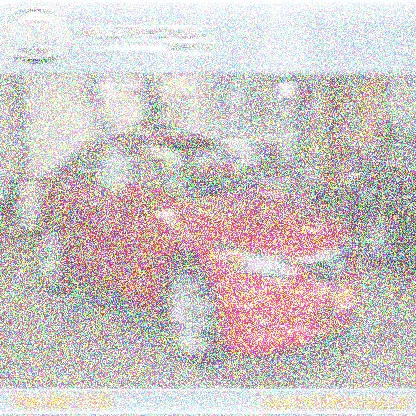Vehicle: (31, 125, 364, 373)
